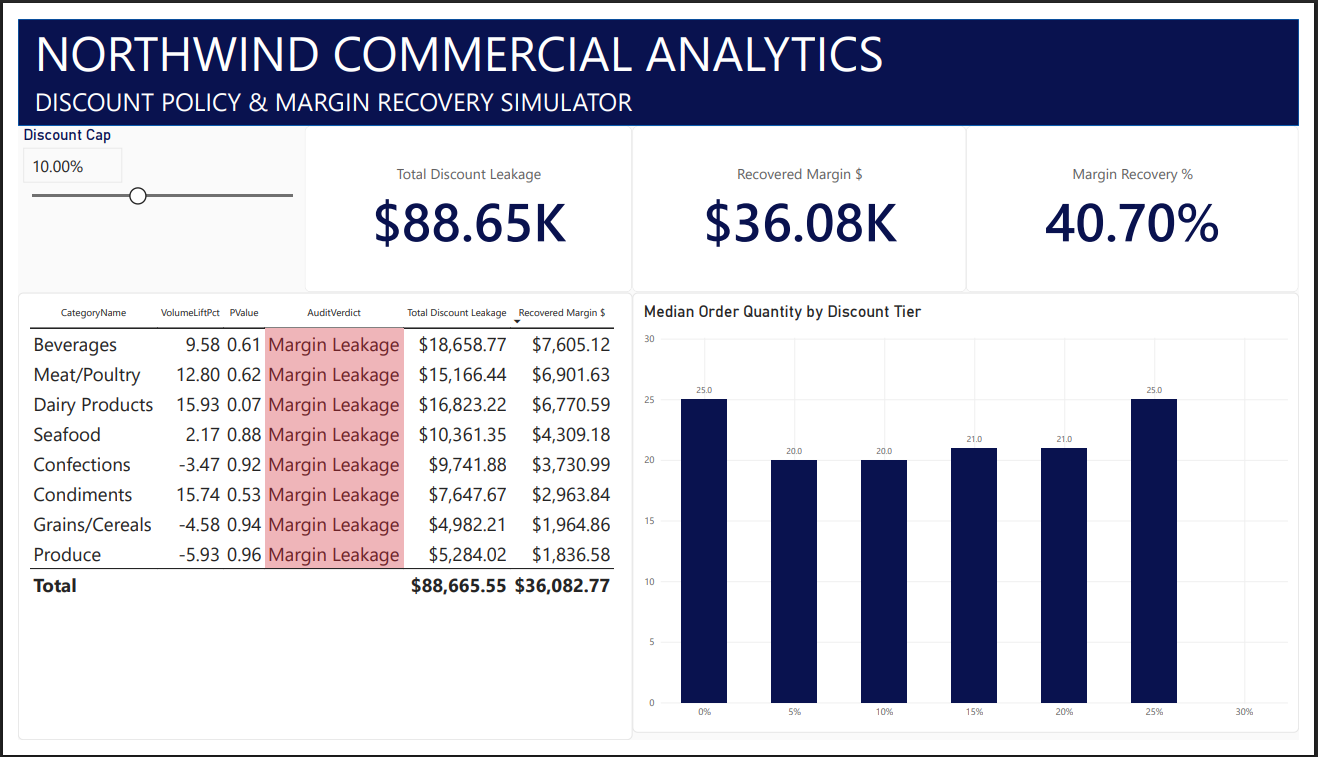

What the dashboard file says about the page in this screenshot:
{"tool":"powerbi","page":{"name":"Discount Policy Simulator","canvas":[1920,1080],"ordinal":1},"visuals":[{"type":"slicer","fields":{"Values":["Discount Cap.Discount Cap"]},"box":[0,160.5,430.4,249.5],"z":0},{"type":"cardVisual","fields":{"Data":["Order Details.Recovered Margin $"]},"box":[920.6,160.5,500.4,249.5],"z":2},{"type":"tableEx","fields":{"Values":["Categories.CategoryName","py_category_margin_audit.VolumeLiftPct","py_category_margin_audit.PValue","py_category_margin_audit.AuditVerdict","Order Details.Total Discount Leakage","Order Details.Recovered Margin $"]},"box":[0,410,920.6,669.7],"z":3},{"type":"clusteredColumnChart","title":"Median Order Quantity by Discount Tier","fields":{"Category":["py_discount_tier_summary.Discount"],"Y":["Avg(py_discount_tier_summary.MedianQuantity)"]},"box":[920.6,410,999.4,659.5],"z":4},{"type":"cardVisual","fields":{"Data":["Sum(py_discount_tier_summary.TotalDiscountLeakage)"]},"box":[430.4,160.5,490.2,249.5],"z":5},{"type":"cardVisual","fields":{"Data":["Categories.Margin Recovery %"]},"box":[1421,160.5,499,249.5],"z":6},{"type":"shape","box":[0,0,1920,160],"z":7},{"type":"textbox","box":[24.8,0,1396.2,97.8],"z":8},{"type":"textbox","box":[24.8,97.8,984.8,58.4],"z":9}]}

Visuals, with their boxes in screenshot pixels (x1, y1, x2, y2), scaled from the page's 1920x1080 canvas onto the 1318x757 screenshot:
slicer - Discount Cap.Discount Cap: box(0, 112, 295, 287)
cardVisual - Order Details.Recovered Margin $: box(632, 112, 975, 287)
tableEx - Categories.CategoryName x py_category_margin_audit.VolumeLiftPct: box(0, 287, 632, 756)
"Median Order Quantity by Discount Tier" clusteredColumnChart: box(632, 287, 1317, 750)
cardVisual - Sum(py_discount_tier_summary.TotalDiscountLeakage): box(295, 112, 632, 287)
cardVisual - Categories.Margin Recovery %: box(975, 112, 1317, 287)
shape: box(0, 0, 1317, 112)
textbox: box(17, 0, 975, 69)
textbox: box(17, 69, 693, 109)
